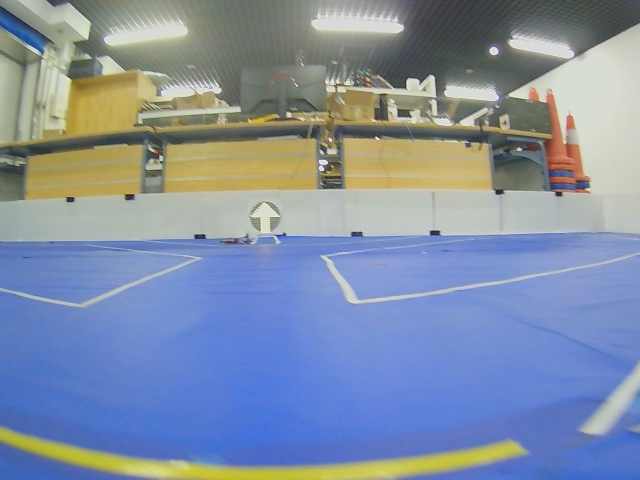straight_yellow: (250, 201, 280, 233)
